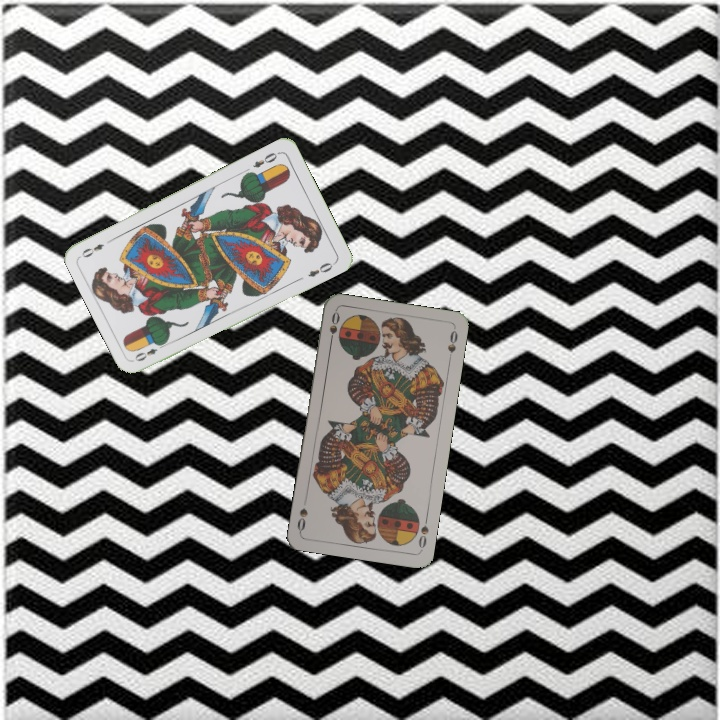EO: (131, 339, 168, 364), (249, 148, 282, 170)
SO: (414, 512, 431, 553), (325, 308, 342, 348)
